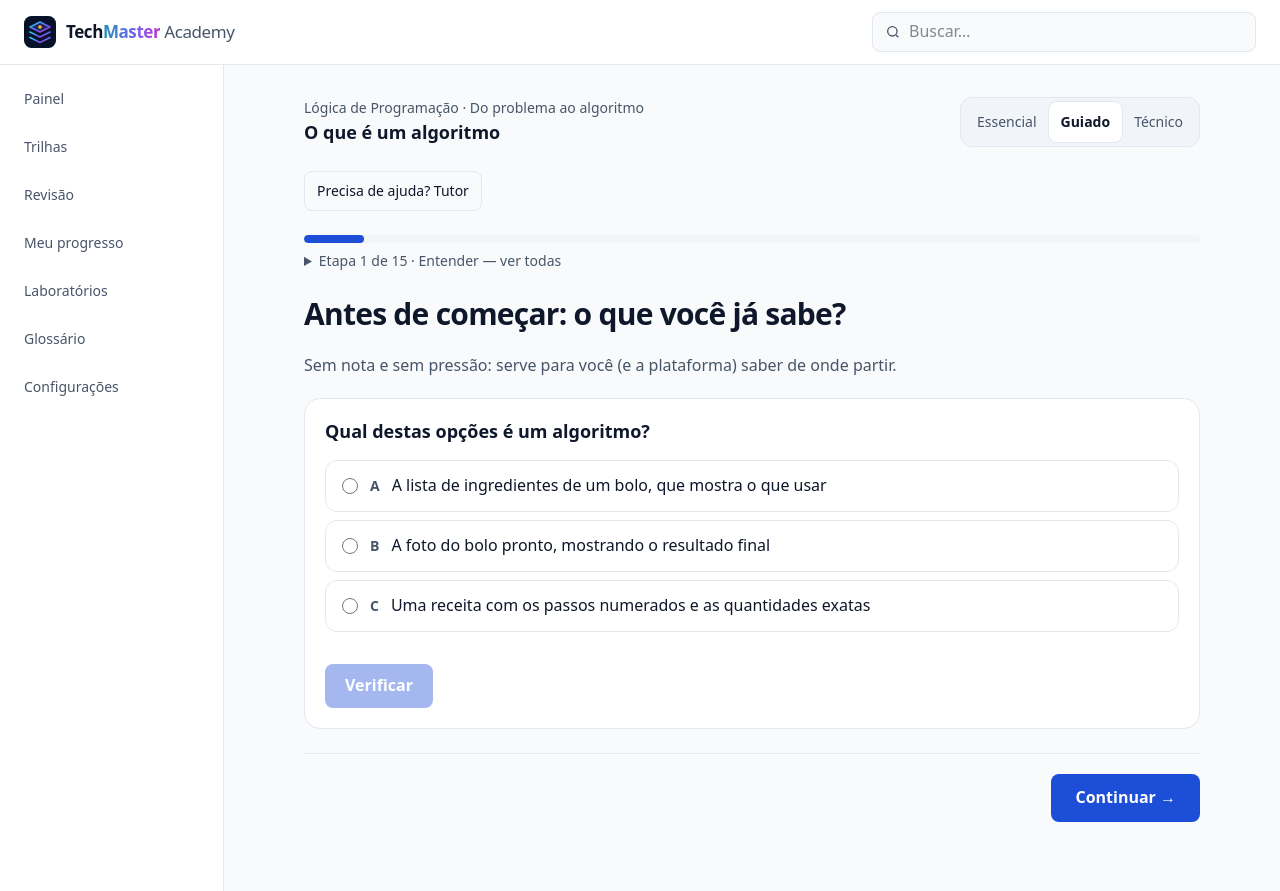
it: player de aula › concluir sem domínio mostra "concluída" e não bloqueia
The width and height of the screenshot is (1280, 891).
Check: the heading "Antes de começar: o que você já sabe?" is shown, box x1=304 y1=293 x2=846 y2=334
Click the heading "Etapa 1 de 15 · Entender — ver todas".
click(440, 260)  # box x1=319 y1=251 x2=561 y2=270
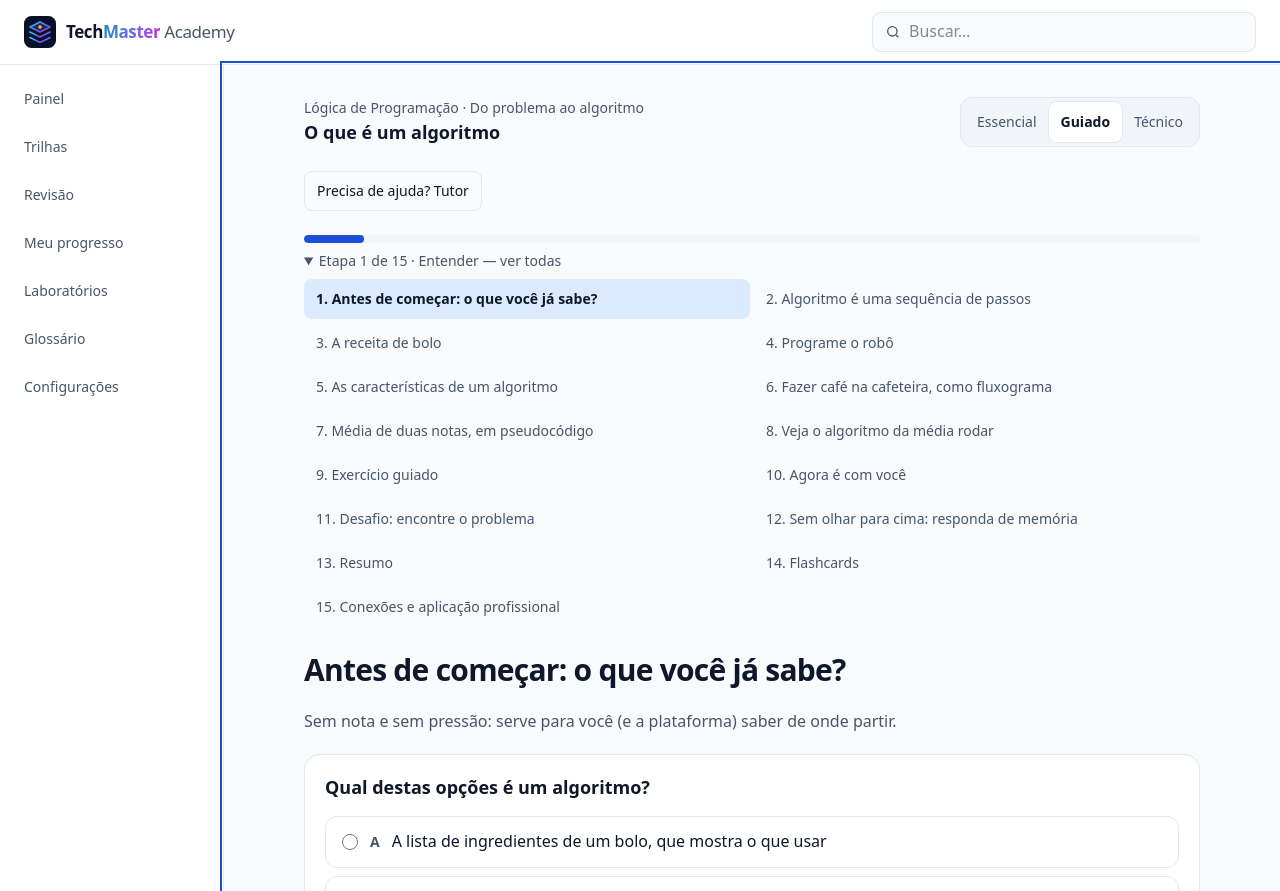
Click the button "15. Conexões e aplicação profissional".
click(527, 607)  # box x1=304 y1=587 x2=750 y2=627
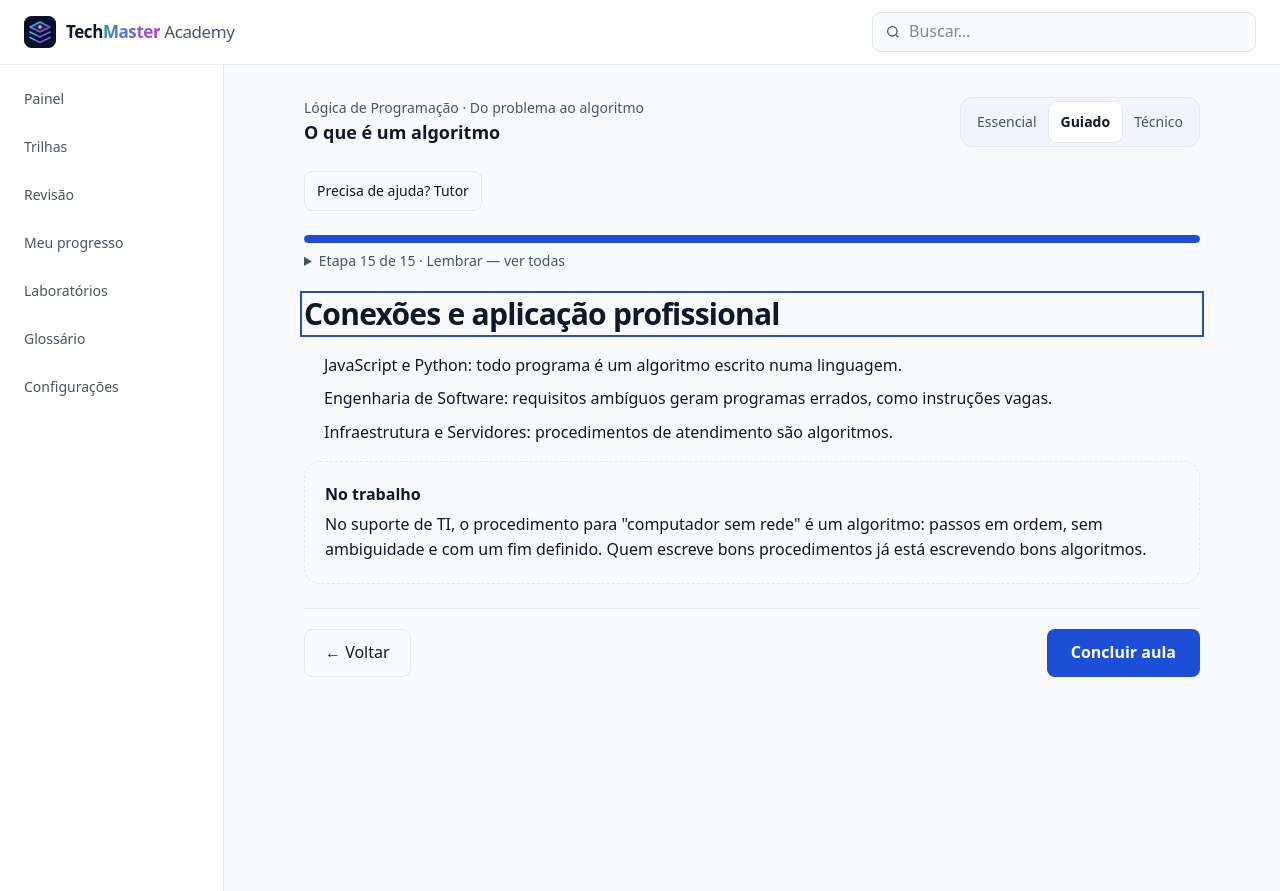
Click the button "Concluir aula".
click(1123, 653)  # box x1=1047 y1=629 x2=1200 y2=677
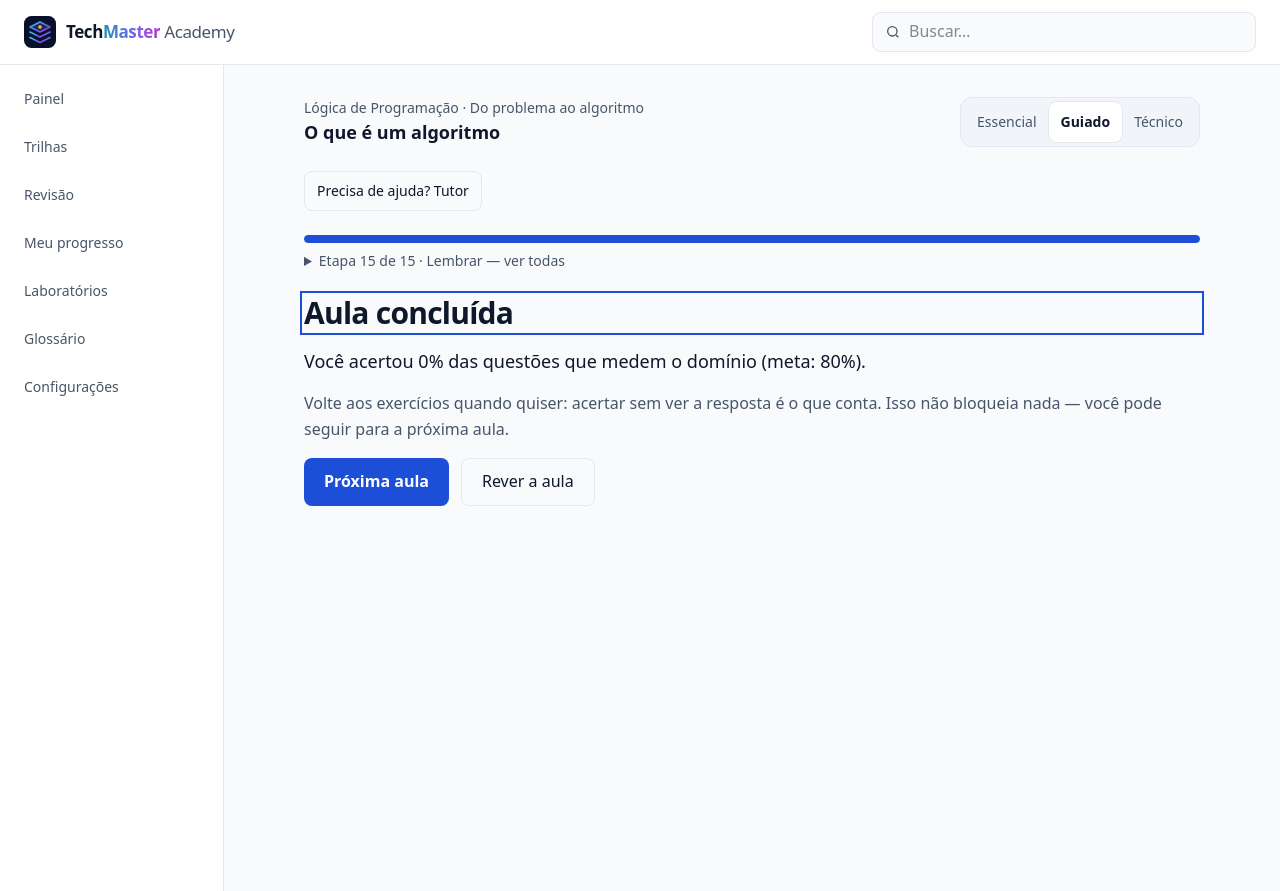
Check: the heading "Aula concluída" is shown, box x1=304 y1=292 x2=513 y2=333
Check: the text "0% das questões" is shown, box x1=304 y1=349 x2=866 y2=373
